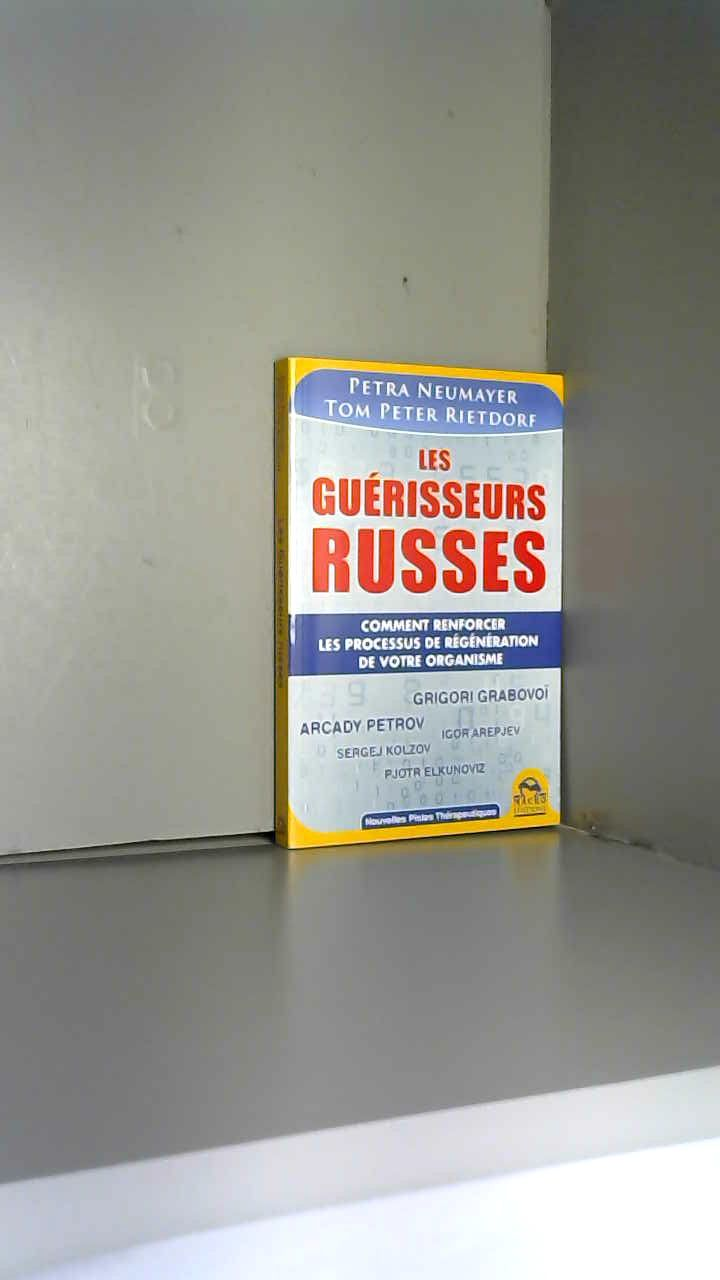book: (259, 341, 576, 863)
